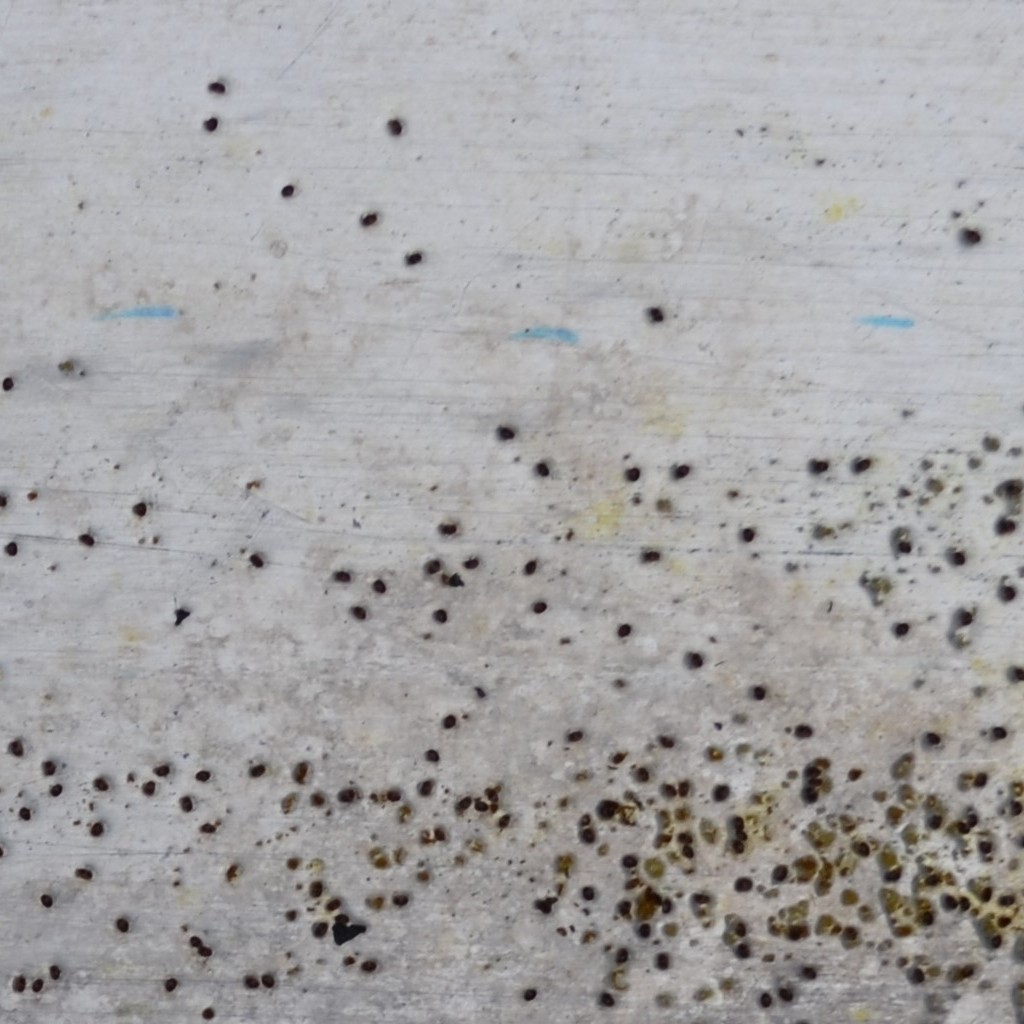varroa: (137, 776, 158, 803), (994, 514, 1017, 536), (595, 987, 617, 1010), (403, 243, 422, 269), (310, 916, 329, 942), (359, 207, 380, 230), (615, 895, 634, 920), (732, 875, 754, 896), (454, 791, 471, 818), (348, 601, 369, 622), (615, 619, 634, 642), (711, 778, 730, 801), (11, 972, 28, 997), (563, 725, 583, 746), (385, 114, 404, 136), (496, 808, 515, 830), (91, 774, 109, 797), (76, 527, 93, 551), (645, 304, 665, 324), (193, 766, 213, 786), (278, 180, 297, 201), (673, 462, 692, 483), (521, 557, 540, 578), (246, 548, 265, 569), (207, 77, 229, 95), (998, 580, 1016, 602), (497, 421, 515, 443), (7, 737, 25, 759), (442, 708, 457, 734), (438, 517, 457, 537), (595, 799, 615, 818), (619, 850, 638, 870), (88, 820, 107, 840), (732, 940, 750, 961), (249, 762, 267, 783), (197, 820, 218, 838), (73, 865, 96, 881), (961, 227, 980, 246), (995, 912, 1014, 931), (446, 571, 465, 590), (337, 786, 356, 805), (529, 596, 547, 616), (631, 763, 649, 783), (260, 969, 275, 993), (424, 556, 441, 577), (417, 776, 434, 797), (151, 762, 172, 779), (113, 915, 130, 936), (243, 972, 260, 993), (739, 524, 755, 546), (996, 890, 1018, 906), (536, 458, 551, 481), (532, 898, 555, 913), (202, 115, 220, 134), (924, 869, 942, 888), (691, 888, 710, 906), (47, 781, 65, 800), (778, 984, 795, 1004), (772, 862, 789, 882), (331, 568, 351, 585), (38, 889, 55, 909), (957, 894, 973, 915), (641, 548, 662, 564), (178, 794, 194, 815), (370, 578, 388, 596), (654, 950, 672, 968), (579, 884, 597, 902), (360, 959, 378, 977), (625, 466, 642, 485), (925, 728, 942, 747), (809, 458, 829, 474), (973, 770, 989, 790), (940, 892, 956, 912), (794, 723, 814, 739), (758, 989, 774, 1009), (614, 945, 630, 965), (163, 973, 179, 993), (610, 744, 625, 765), (47, 961, 61, 983), (991, 723, 1007, 742), (461, 557, 480, 573), (472, 796, 488, 815), (978, 885, 993, 905), (787, 924, 807, 939), (688, 649, 703, 669), (391, 894, 411, 909), (332, 911, 352, 926), (323, 895, 343, 910), (308, 880, 323, 900), (803, 764, 826, 777), (676, 780, 690, 801), (977, 838, 993, 856), (842, 924, 858, 942), (729, 838, 747, 854), (431, 606, 447, 624), (424, 746, 440, 764), (41, 758, 57, 776), (31, 975, 44, 997), (1008, 663, 1023, 682), (855, 454, 870, 473), (657, 736, 676, 751), (523, 985, 537, 1005), (897, 538, 913, 555), (3, 541, 20, 557), (131, 500, 147, 517), (385, 789, 402, 805), (883, 869, 901, 884), (807, 774, 825, 789), (683, 840, 697, 859), (638, 921, 652, 940), (580, 826, 594, 845), (858, 839, 870, 861), (1009, 798, 1022, 818), (893, 620, 909, 636), (965, 810, 980, 827), (801, 963, 819, 977), (955, 820, 971, 835), (733, 826, 749, 841), (660, 782, 675, 798), (201, 1005, 216, 1021), (730, 814, 747, 828), (990, 932, 1003, 950), (921, 908, 934, 926), (188, 932, 203, 947), (197, 945, 213, 959), (735, 921, 748, 938), (753, 684, 766, 701), (662, 895, 673, 915), (18, 805, 30, 823), (959, 610, 974, 624), (926, 814, 941, 828), (804, 790, 819, 804), (913, 966, 925, 983), (645, 892, 662, 904), (953, 548, 966, 563), (1, 375, 13, 391), (0, 491, 9, 511), (577, 814, 593, 825), (677, 834, 692, 842)
